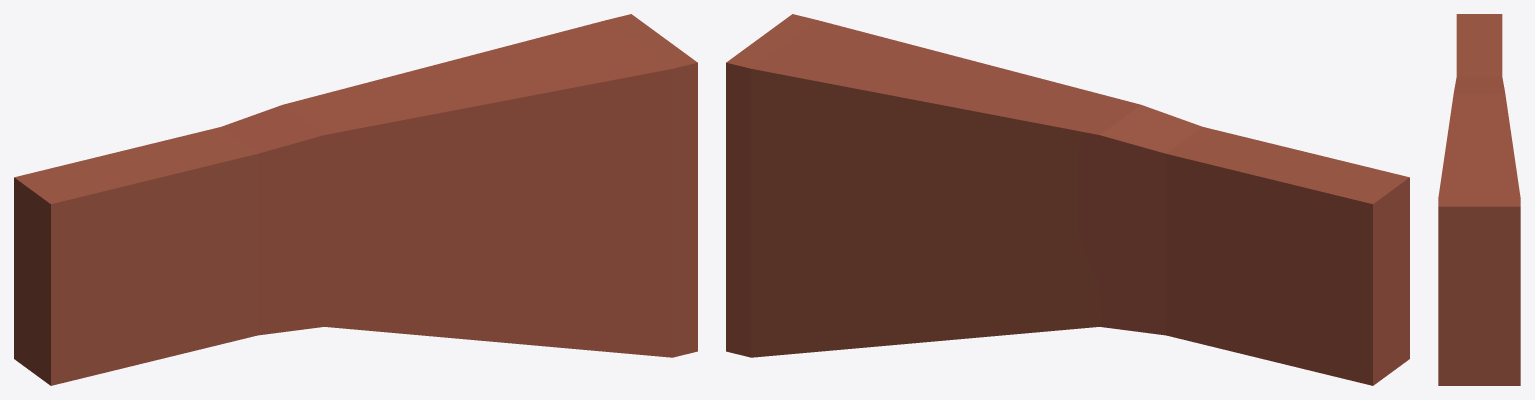
3 renders of one model, left to right at view 1: azimuth 30°, elevation 25°; view 2: azimuth 150°, elevation 25°; view 3: azimuth 270°, elevation 25°, orthographic. The views are drawn at different scales.
Parts seen in each view (by area): view 1: Cube; view 2: Cube; view 3: Cube.
Part boxes in pixels (x1,y1,x2,y2): Cube: (14, 14, 697, 385); Cube: (726, 14, 1409, 385); Cube: (1438, 14, 1520, 385).
Bounding box in the file's own units: 1464 × 654 × 267.
